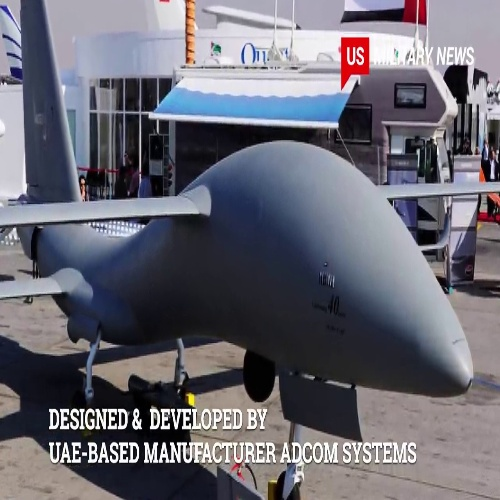uav156: (7, 4, 500, 448)
